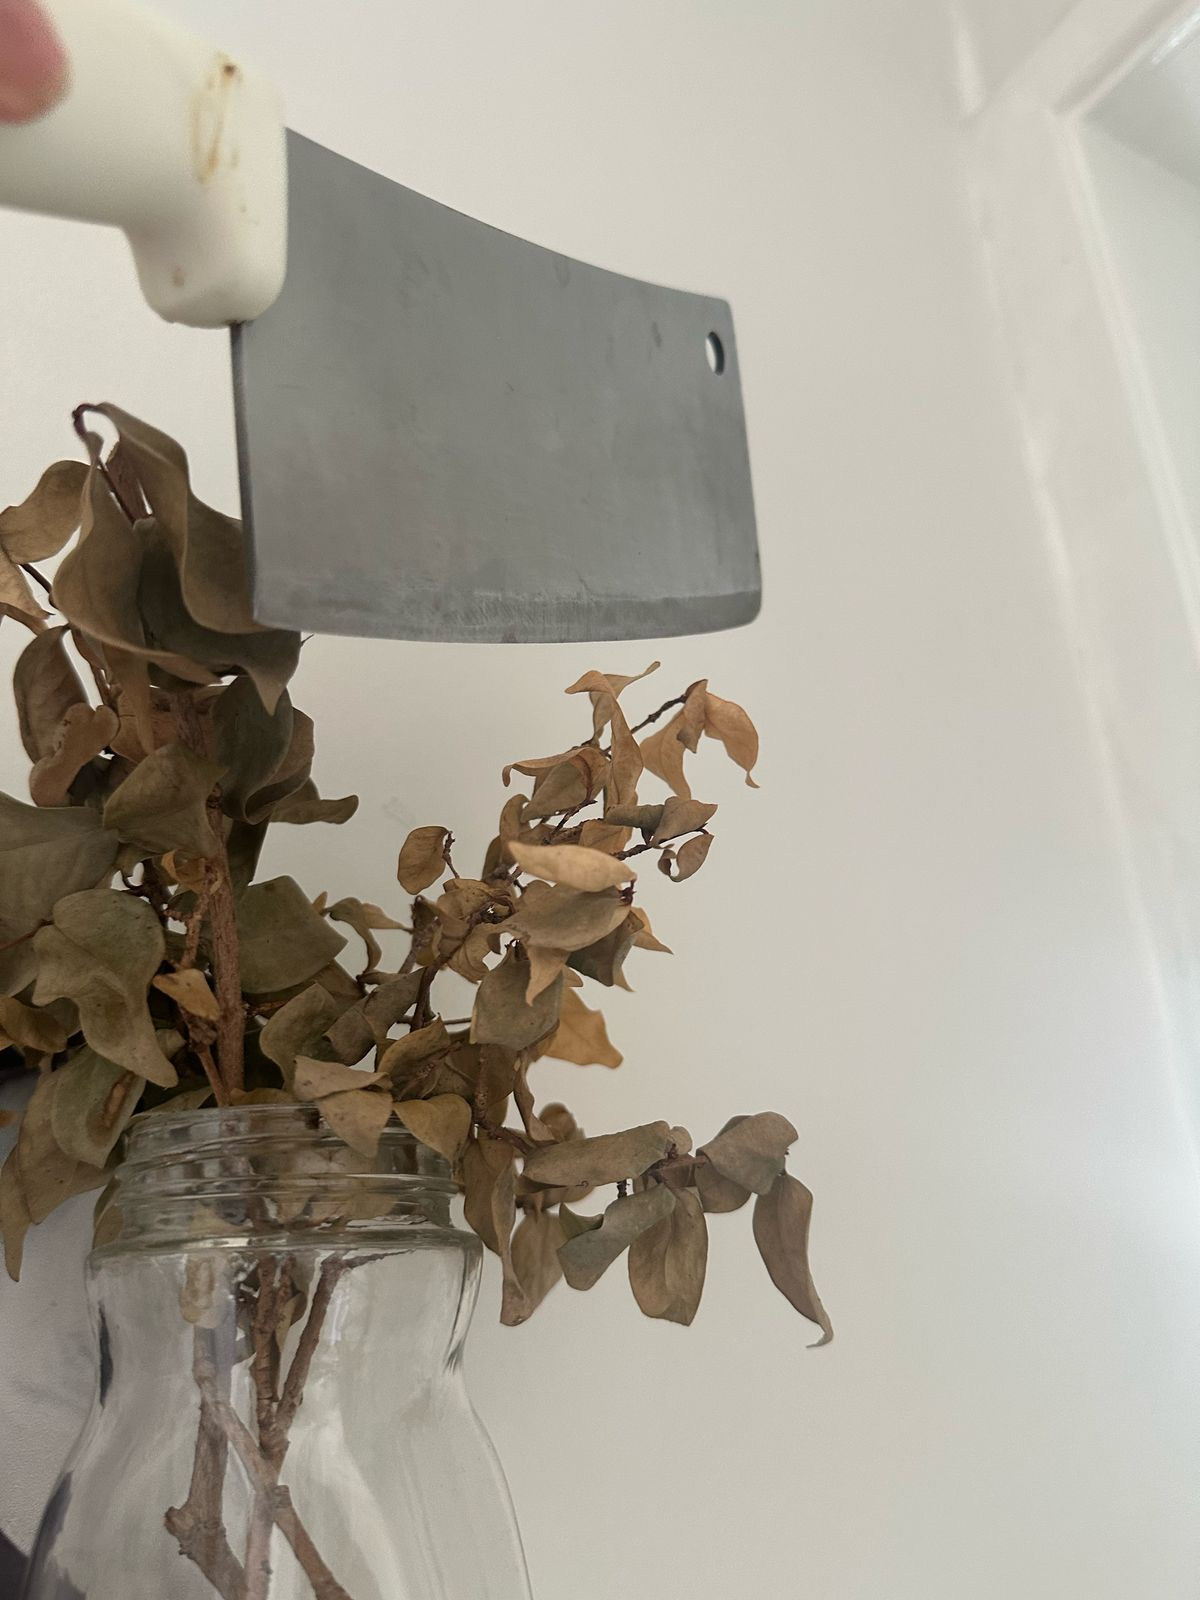faca: (70, 10, 787, 658)
